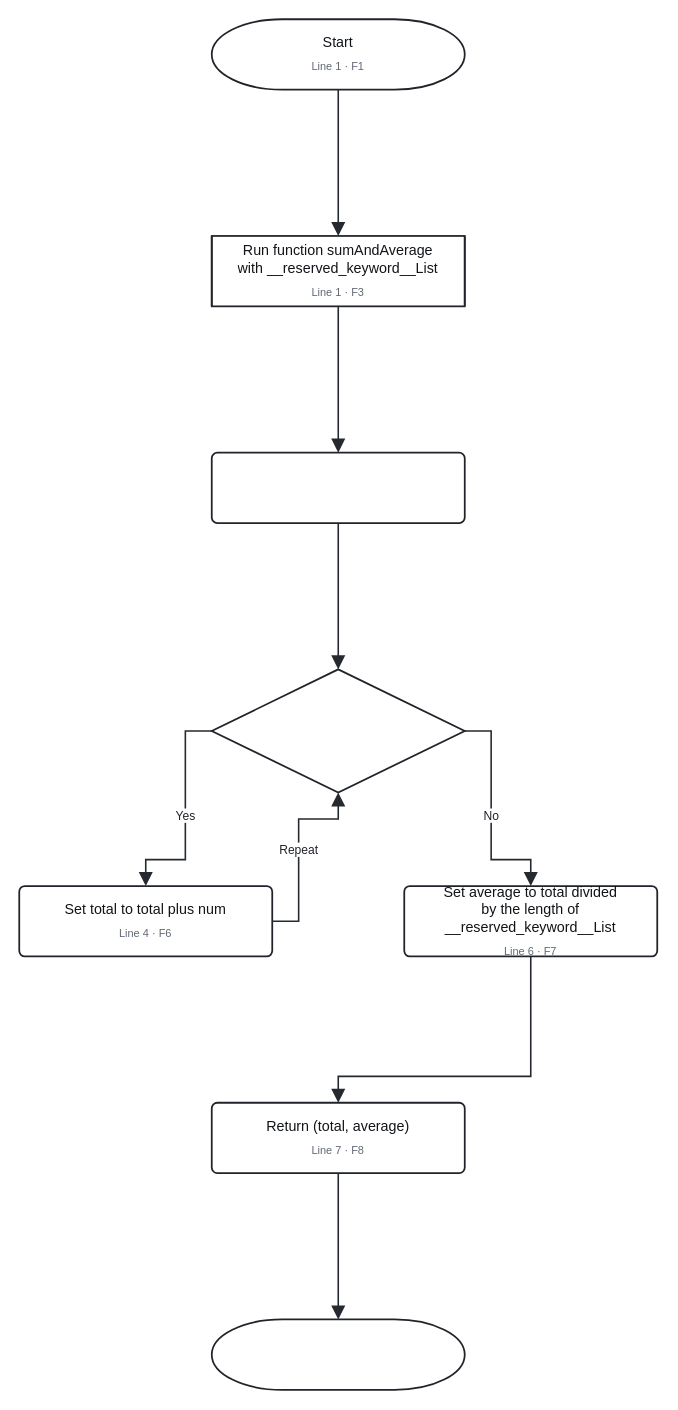
This 678x1410 diagram has some shape labels left out. The box of each missing label's shape, as (x1, y1, x2, y2) in pixels:
End Line 1 · F2: (210, 1318, 465, 1390)
For each num in __reserved_keyword__List Line 3 · F5: (210, 668, 465, 793)
Set total to 0 Line 2 · F4: (210, 451, 465, 523)
